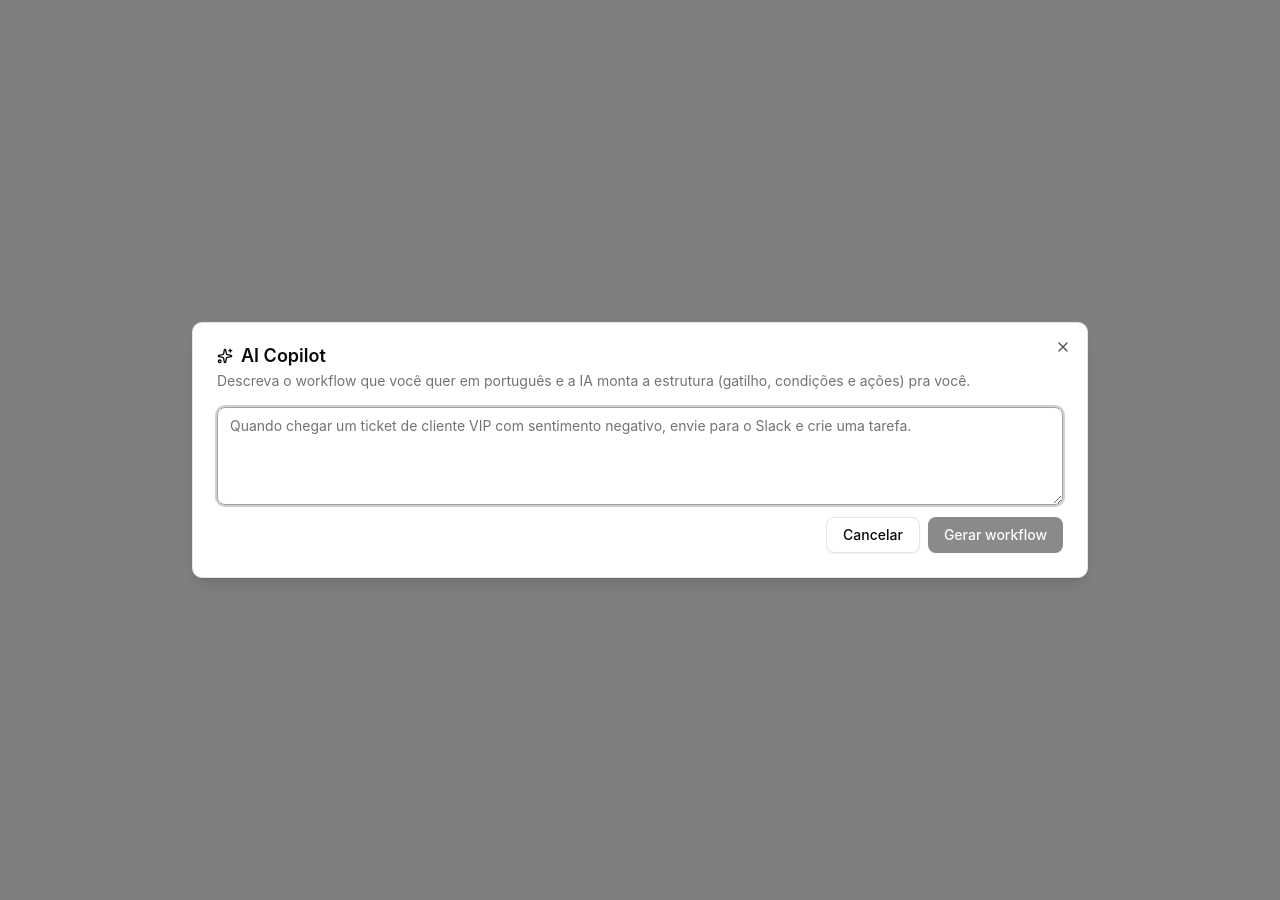
Test case: CopilotDialog › mostra uma mensagem de erro quando o servidor recusa o prompt
Type "x" into the text box named "Descrição do workflow" at (640, 456), box [217, 407, 1063, 505]
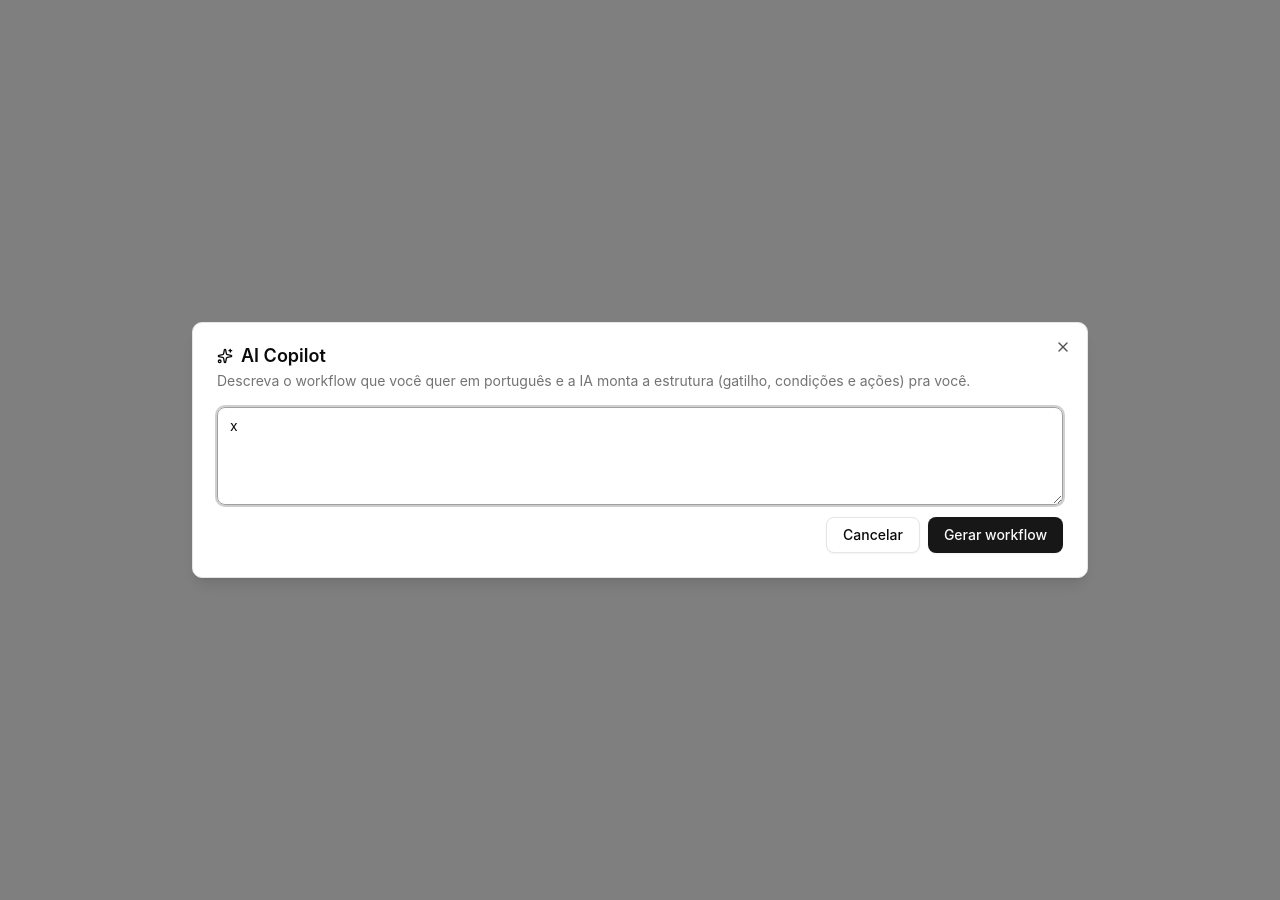
Click the button "Gerar workflow" at (995, 535), box [928, 517, 1063, 553]
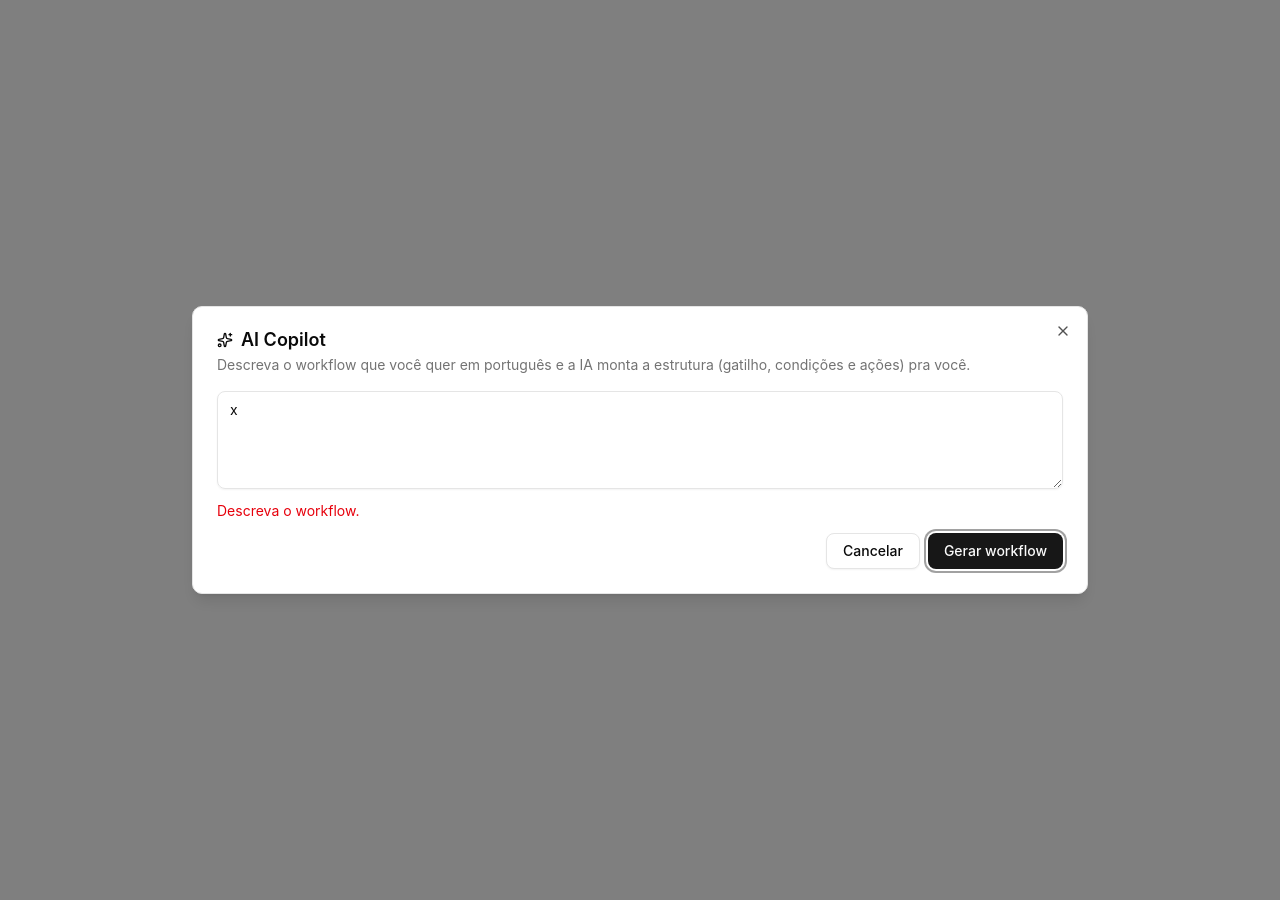
Expected: the message reads "Descreva o workflow.", [217, 502, 360, 519]
